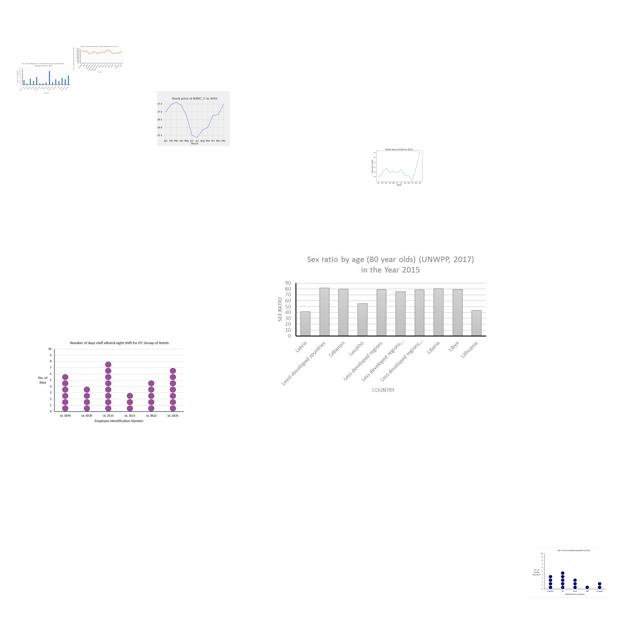Graph: (272, 251, 490, 396), (33, 339, 187, 426), (157, 91, 230, 146), (530, 547, 607, 598), (369, 144, 428, 188), (15, 62, 71, 95), (72, 45, 125, 74)
